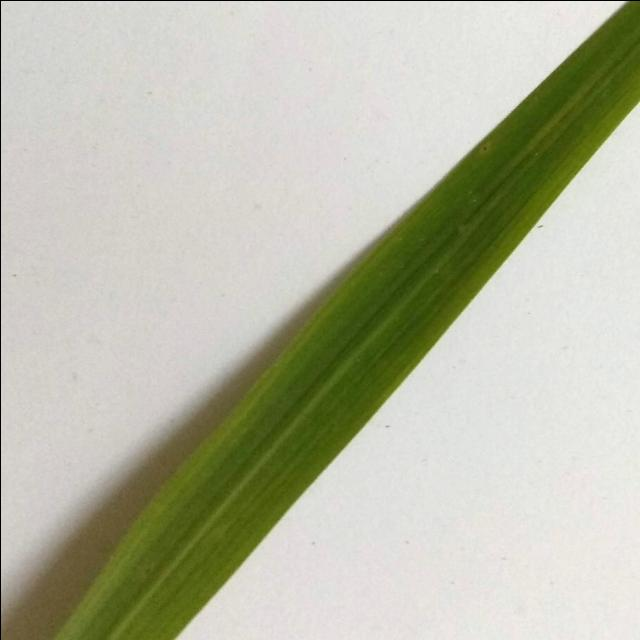healthy: (31, 1, 640, 640)
